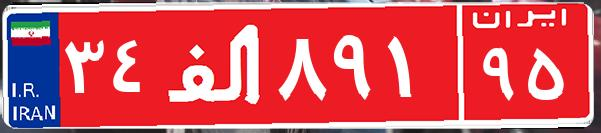1: (385, 28, 445, 110)
3: (57, 26, 110, 107)
4: (110, 28, 158, 105)
5: (525, 38, 570, 115)
8: (273, 28, 330, 110)
9: (330, 28, 385, 110), (475, 38, 525, 113)
الف: (158, 15, 273, 115)
